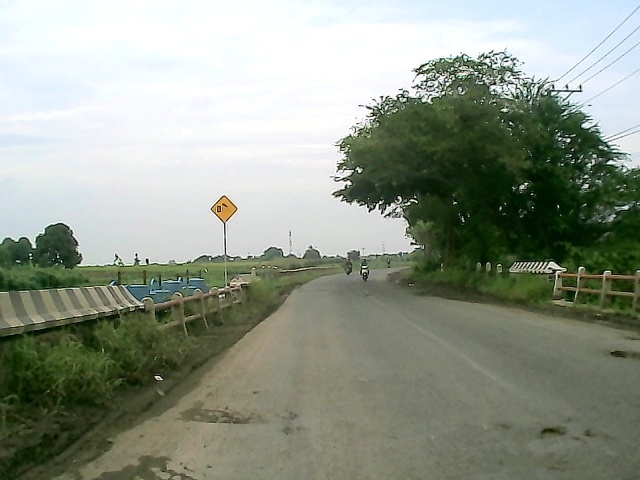Peringatan tepi air: (209, 194, 239, 223)
